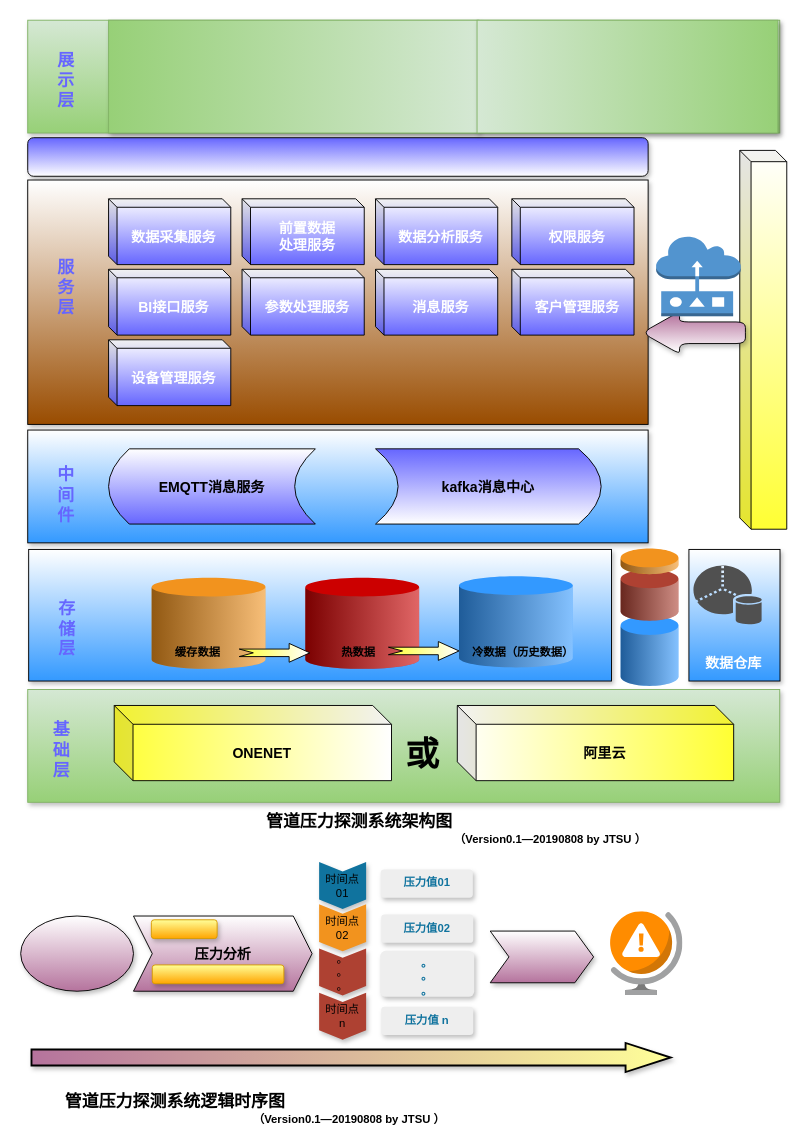
This 810x1143 diagram has some shape labels left out. Here are the shapes that lost their labels. From the top down, the centre of each, then its label:
At pixel 294 78: "WEB端（HTML）".
At pixel 627 78: "移动端（H5）".
At pixel 338 158: "网关".
At pixel 763 339: "传 感 器".
At pixel 649 594: "ETL 过 滤".
At pixel 185 930: "压力差".
At pixel 77 954: "压力采集".
At pixel 542 957: "压力值异常".
At pixel 646 953: "异常警报".
At pixel 219 975: "时间范围的参数临界值".
